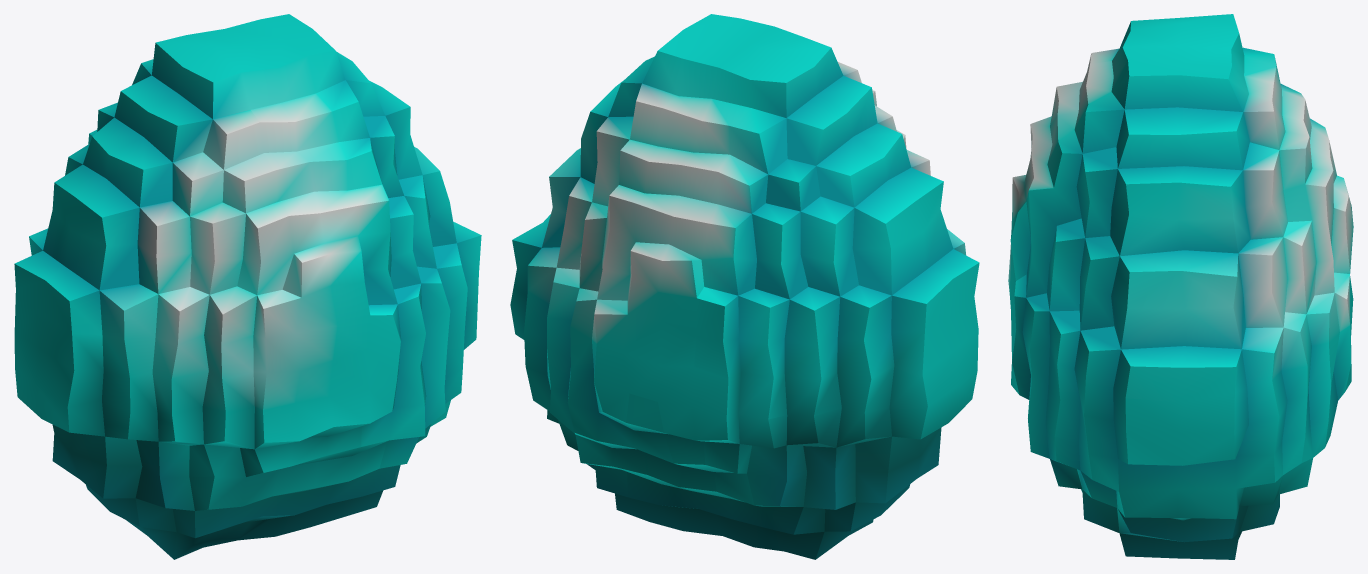
Rendered from Diamond.fbx.
3 renders of one model, left to right at view 1: azimuth 30°, elevation 25°; view 2: azimuth 150°, elevation 25°; view 3: azimuth 270°, elevation 25°, orthographic.
Visible parts, largest first — view 1: Cube; view 2: Cube; view 3: Cube.
Part boxes in pixels (bbox=[...]): Cube: bbox=[14, 14, 481, 559]; Cube: bbox=[510, 14, 979, 559]; Cube: bbox=[1008, 14, 1353, 559].
Bounding box in the file's own units: 640 × 698 × 456.
